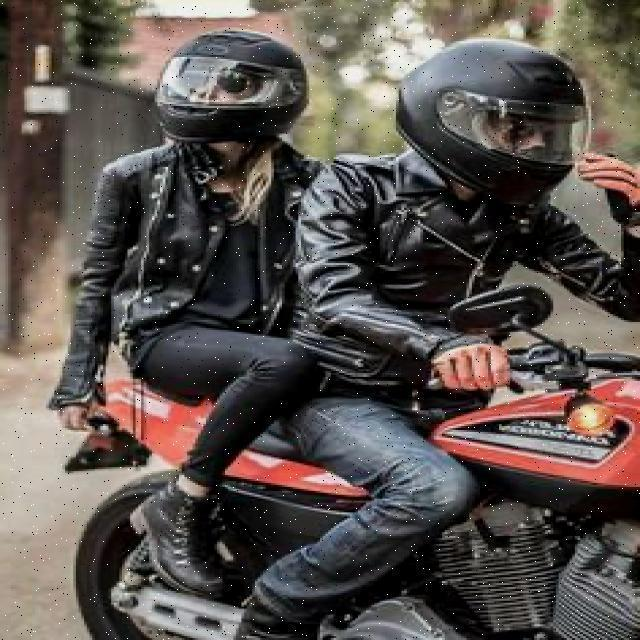Helmet: (388, 38, 602, 200), (146, 20, 339, 146)
